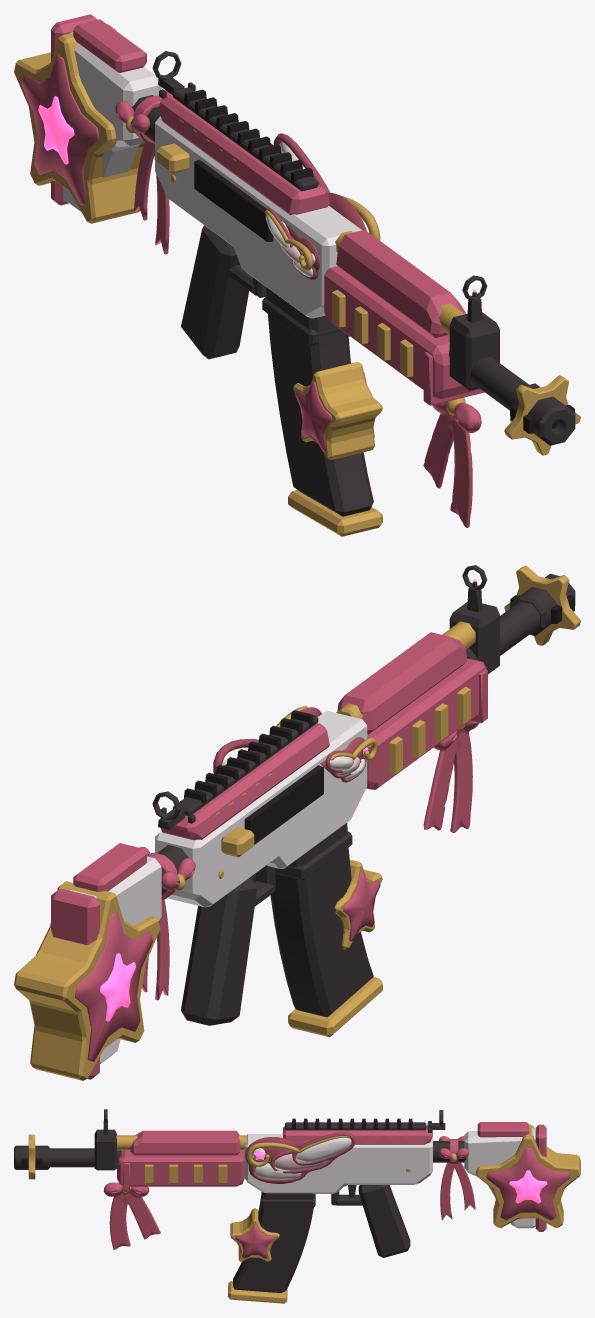
File: w_ar@ar_cute_b.glb
3 renders of one model, top to bottom at view 1: azimuth 30°, elevation 25°; view 2: azimuth 150°, elevation 25°; view 3: azimuth 270°, elevation 25°, orthographic. The views are drawn at different scales.
Parts seen in each view (by area): view 1: guard_wzA__main2__pc75a76, mag_wzB__cdark__p3b3437, body_wzB__main__pece5e8, mag_wzN__ctrim__pcfa451, sstar_wzN__ctrim__pcfa451, grip_wzB__cdark__p3b3437, barrel_wzB__cdark__p3b3437, trim_wzN__cblack__p211c1f, body_wzA__main2__pc75a76, stock_wzA__main__pece5e8, ribbon_wzN__main2__pc75a76, sstar_wzN__main2__pc75a76 (+10 smaller); view 2: mag_wzB__cdark__p3b3437, body_wzB__main__pece5e8, sstar_wzN__ctrim__pcfa451, guard_wzA__main2__pc75a76, grip_wzB__cdark__p3b3437, trim_wzN__cblack__p211c1f, body_wzA__main2__pc75a76, stock_wzB__main2__pc75a76, sstar_wzN__main2__pc75a76, barrel_wzB__cdark__p3b3437, ribbon_wzN__main2__pc75a76, mag_wzN__ctrim__pcfa451 (+10 smaller); view 3: guard_wzA__main2__pc75a76, body_wzB__main__pece5e8, mag_wzB__cdark__p3b3437, grip_wzB__cdark__p3b3437, sstar_wzN__ctrim__pcfa451, sstar_wzN__main2__pc75a76, barrel_wzB__cdark__p3b3437, ribbon_wzN__main2__pc75a76, stock_wzA__main__pece5e8, wing_wzN__bowin__pa94e60, body_wzA__main2__pc75a76, mag_wzN__ctrim__pcfa451 (+13 smaller).
Part boxes in pixels (x1,y1,x2,y2): guard_wzA__main2__pc75a76: [324, 229, 480, 399]; mag_wzB__cdark__p3b3437: [262, 287, 373, 516]; body_wzB__main__pece5e8: [155, 116, 361, 318]; mag_wzN__ctrim__pcfa451: [288, 362, 382, 536]; sstar_wzN__ctrim__pcfa451: [14, 24, 144, 223]; grip_wzB__cdark__p3b3437: [181, 225, 266, 359]; barrel_wzB__cdark__p3b3437: [449, 312, 575, 445]; trim_wzN__cblack__p211c1f: [184, 89, 574, 433]; body_wzA__main2__pc75a76: [159, 94, 329, 215]; stock_wzA__main__pece5e8: [63, 32, 161, 212]; ribbon_wzN__main2__pc75a76: [423, 352, 484, 527]; sstar_wzN__main2__pc75a76: [21, 54, 99, 205]; mag_wzB__cdark__p3b3437: [270, 823, 373, 1017]; body_wzB__main__pece5e8: [155, 710, 367, 907]; sstar_wzN__ctrim__pcfa451: [14, 881, 160, 1080]; guard_wzA__main2__pc75a76: [337, 632, 486, 789]; grip_wzB__cdark__p3b3437: [181, 865, 275, 1025]; trim_wzN__cblack__p211c1f: [184, 595, 574, 844]; body_wzA__main2__pc75a76: [160, 723, 329, 840]; stock_wzB__main2__pc75a76: [51, 843, 146, 1079]; sstar_wzN__main2__pc75a76: [75, 911, 152, 1062]; barrel_wzB__cdark__p3b3437: [449, 573, 575, 673]; ribbon_wzN__main2__pc75a76: [423, 669, 487, 833]; mag_wzN__ctrim__pcfa451: [288, 859, 382, 1037]; guard_wzA__main2__pc75a76: [117, 1130, 244, 1186]; body_wzB__main__pece5e8: [244, 1134, 432, 1193]; mag_wzB__cdark__p3b3437: [233, 1192, 315, 1292]; grip_wzB__cdark__p3b3437: [331, 1185, 410, 1257]; sstar_wzN__ctrim__pcfa451: [475, 1124, 580, 1227]; sstar_wzN__main2__pc75a76: [486, 1148, 570, 1220]; barrel_wzB__cdark__p3b3437: [14, 1129, 121, 1170]; ribbon_wzN__main2__pc75a76: [103, 1163, 160, 1249]; stock_wzA__main__pece5e8: [464, 1128, 535, 1228]; wing_wzN__bowin__pa94e60: [245, 1132, 357, 1183]; body_wzA__main2__pc75a76: [283, 1125, 432, 1144]; mag_wzN__ctrim__pcfa451: [228, 1208, 287, 1303].
Size of the model in its own units: 0.1115 by 0.4659 by 1.27.
